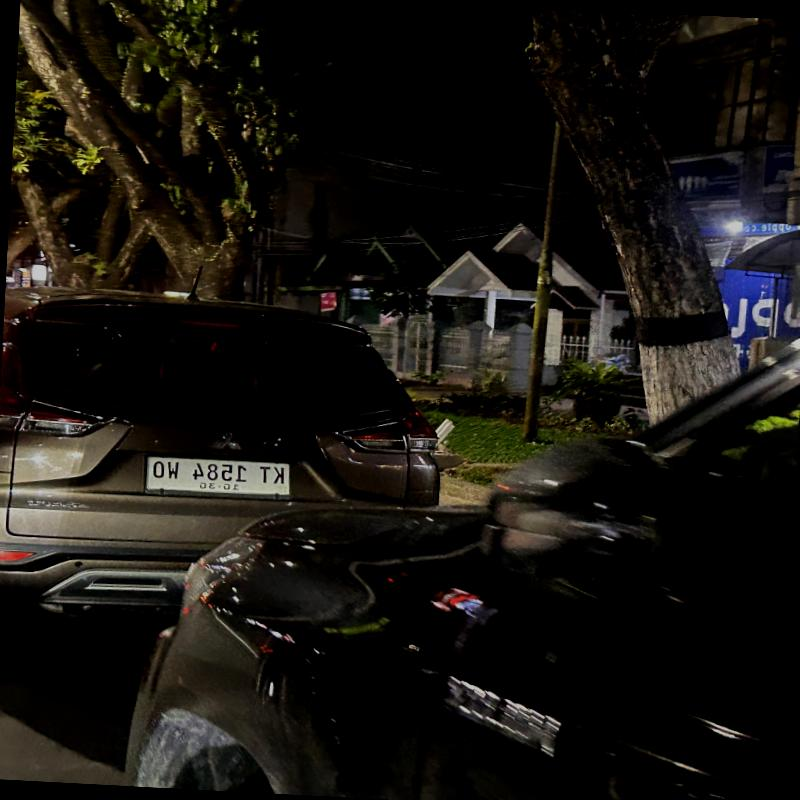license plate on a car: (143, 455, 299, 502)
